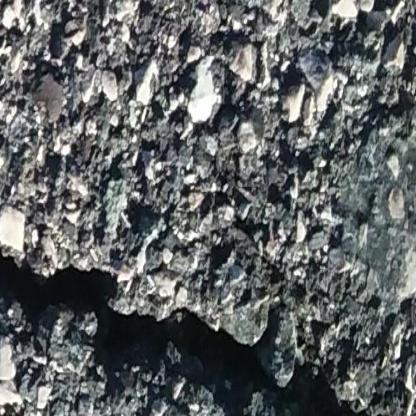Cracks: (0, 192, 415, 416)
